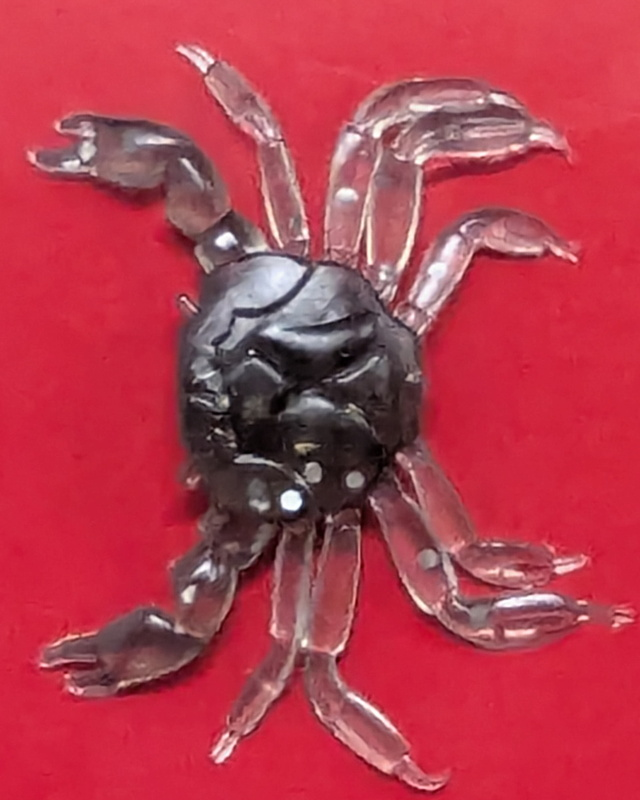crab1: (23, 37, 640, 792)
